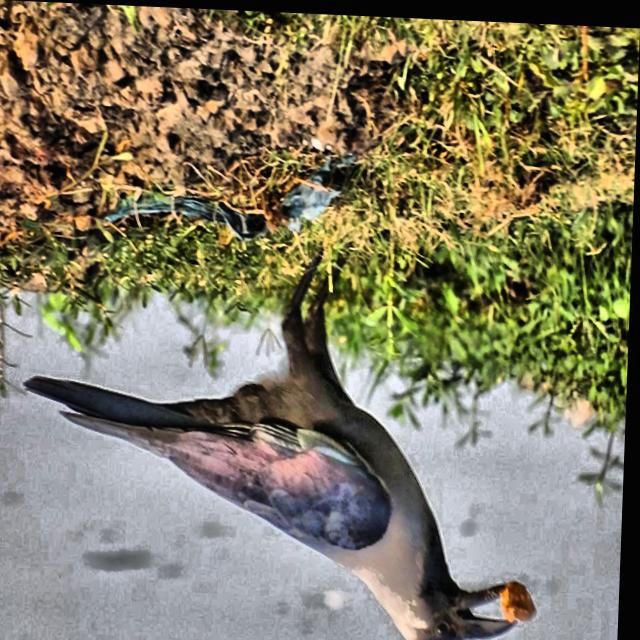crow: (18, 179, 566, 640)
